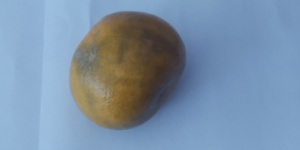BAD: (71, 10, 188, 131)
